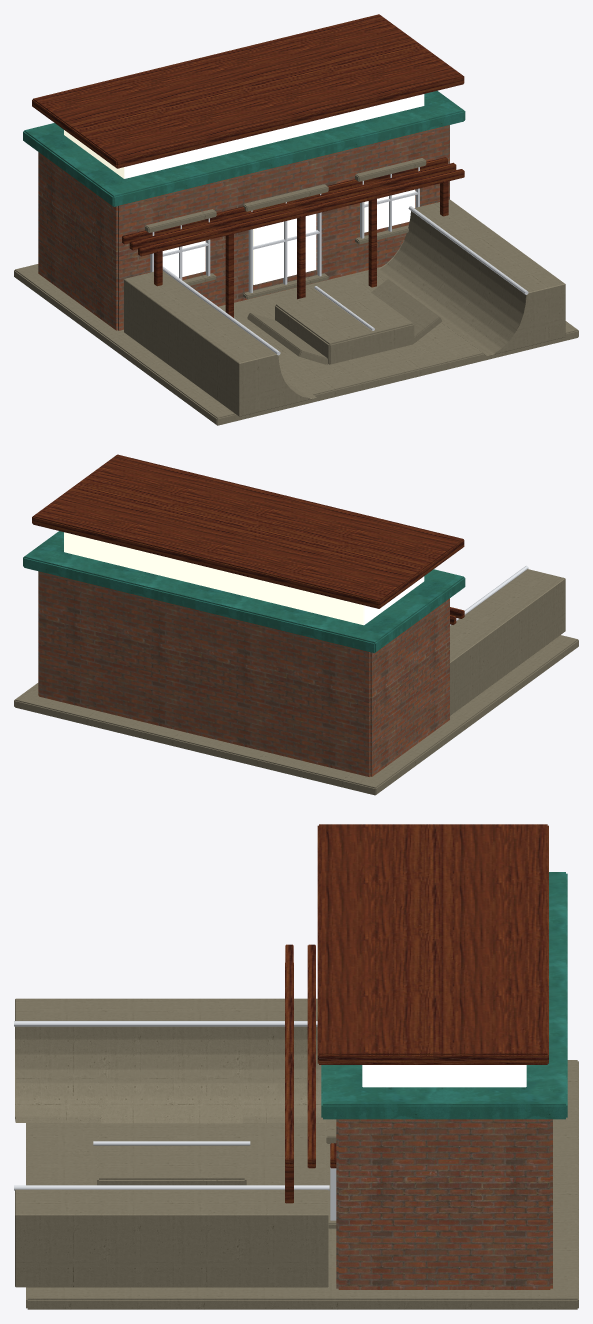
Rendered from landmark_gateway_civic_hall.glb.
3 renders of one model, top to bottom at view 1: azimuth 30°, elevation 25°; view 2: azimuth 150°, elevation 25°; view 3: azimuth 270°, elevation 25°, orthographic. The views are drawn at different scales.
Visible parts, largest first — view 1: HallCanopyRoof, HallBody, QuarterPipe_R, Deck, QuarterPipe_L, HallFascia, FunDeck, HallClerestory, PergBeam_-0.35, GripDoor_glass, PergBeam_0.25, PergBeam_0.85 (+13 smaller); view 2: HallBody, HallCanopyRoof, HallFascia, Deck, QuarterPipe_L, HallClerestory; view 3: HallCanopyRoof, HallBody, QuarterPipe_L, QuarterPipe_R, Deck, HallFascia, FunDeck, HallClerestory, FunSlopeL, PergBeam_-0.35, PergBeam_0.25, CopingRail_L (+2 smaller).
Boxes of the visible parts, bbox=[...] form: HallCanopyRoof: bbox=[32, 14, 464, 168]; HallBody: bbox=[38, 125, 449, 330]; QuarterPipe_R: bbox=[377, 199, 565, 355]; Deck: bbox=[14, 264, 578, 425]; QuarterPipe_L: bbox=[124, 271, 316, 416]; HallFascia: bbox=[23, 90, 465, 206]; FunDeck: bbox=[275, 284, 414, 364]; HallClerestory: bbox=[64, 94, 424, 178]; PergBeam_-0.35: bbox=[138, 169, 464, 256]; GripDoor_glass: bbox=[253, 214, 316, 284]; PergBeam_0.25: bbox=[129, 162, 456, 250]; PergBeam_0.85: bbox=[122, 157, 447, 244]; HallBody: bbox=[38, 571, 449, 776]; HallCanopyRoof: bbox=[32, 454, 464, 608]; HallFascia: bbox=[23, 531, 465, 653]; Deck: bbox=[14, 635, 578, 795]; QuarterPipe_L: bbox=[450, 569, 565, 715]; HallClerestory: bbox=[64, 532, 424, 625]; HallCanopyRoof: bbox=[317, 824, 548, 1064]; HallBody: bbox=[336, 1119, 552, 1289]; QuarterPipe_L: bbox=[15, 998, 326, 1122]; QuarterPipe_R: bbox=[15, 1189, 328, 1287]; Deck: bbox=[26, 1060, 578, 1309]; HallFascia: bbox=[321, 872, 567, 1119]; FunDeck: bbox=[97, 1123, 246, 1185]; HallClerestory: bbox=[362, 1065, 526, 1087]; FunSlopeL: bbox=[101, 1106, 242, 1123]; PergBeam_-0.35: bbox=[285, 944, 293, 1168]; PergBeam_0.25: bbox=[307, 944, 315, 1168]; CopingRail_L: bbox=[14, 1021, 317, 1026].
Size of the model in its own units: 15.2 by 7.42 by 15.12.
6 materials, 4 textured.
